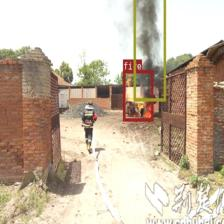fire: (123, 69, 153, 121)
smoke: (133, 0, 165, 100)
